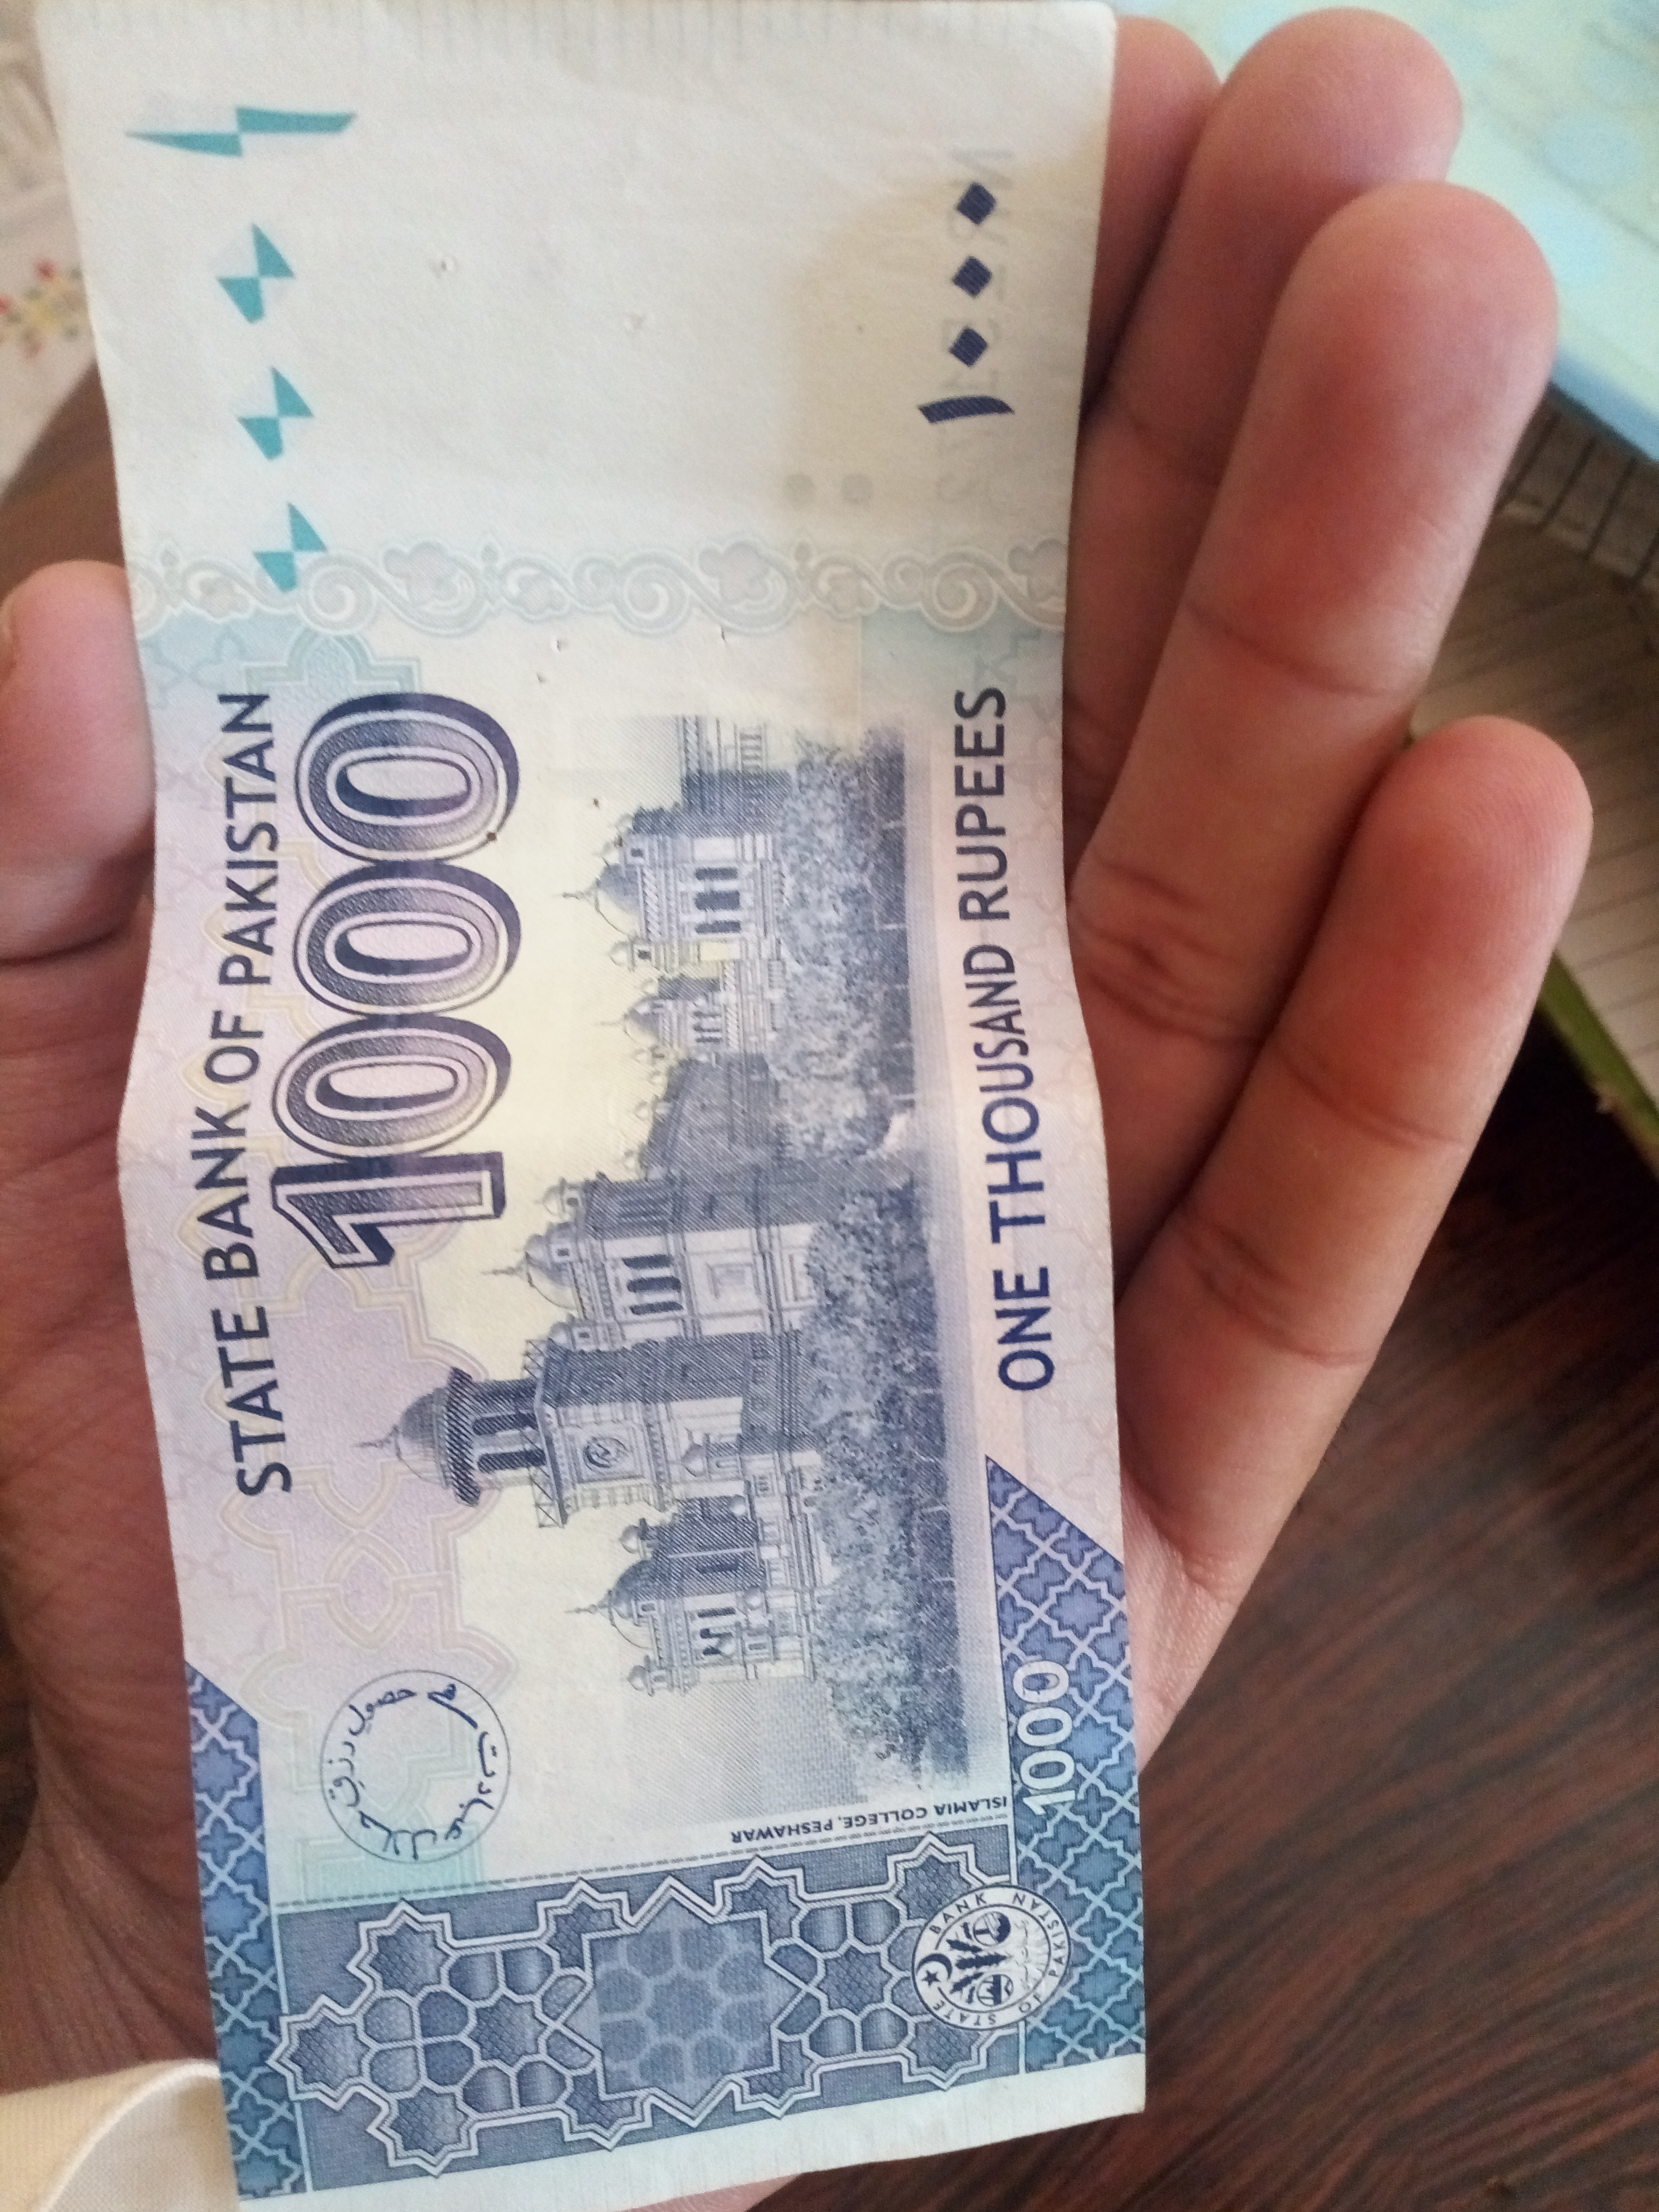1000 rupee: (54, 14, 1211, 2198)
